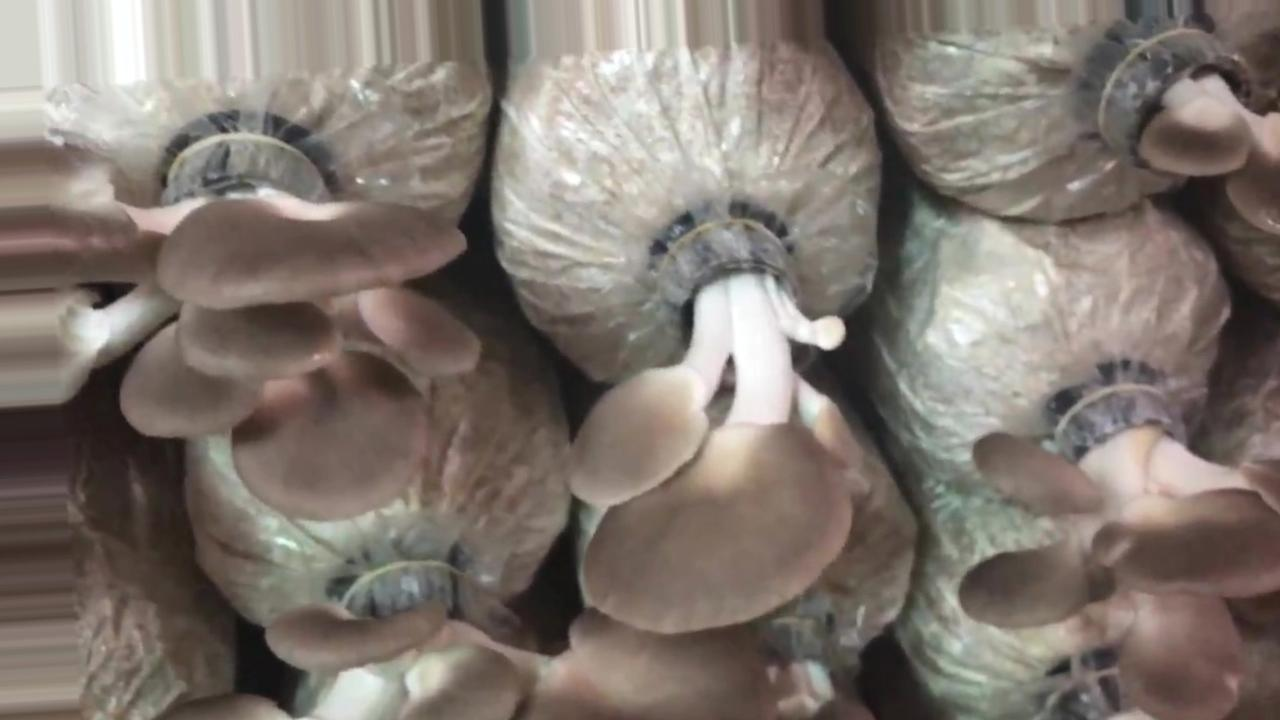nam: (73, 146, 481, 523), (575, 217, 875, 638), (966, 400, 1280, 714), (159, 574, 786, 702), (1114, 38, 1280, 234)
